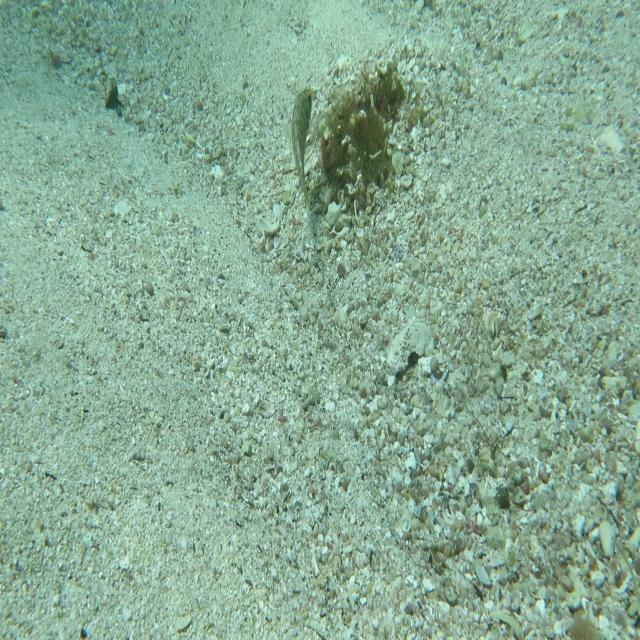AM: (289, 83, 315, 209)
core_nest: (364, 76, 395, 114)
nest: (313, 54, 412, 198)
vegetation: (569, 607, 604, 640), (104, 75, 122, 112)
